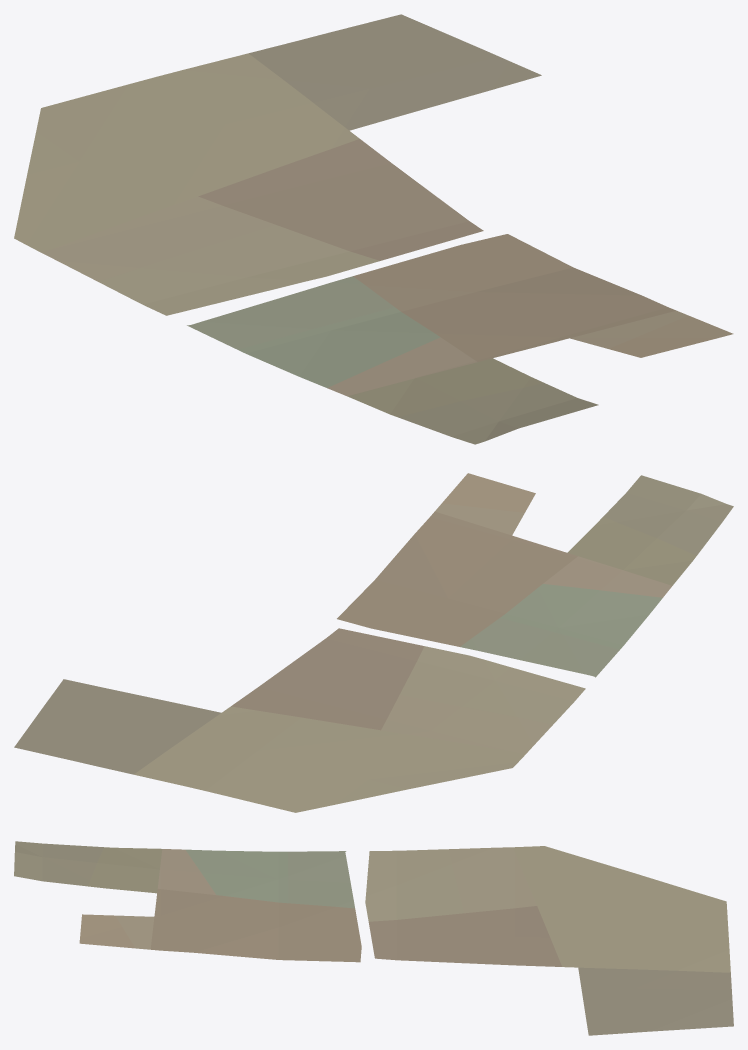
File: farm_4_0_soil.glb
3 renders of one model, top to bottom at view 1: azimuth 30°, elevation 25°; view 2: azimuth 150°, elevation 25°; view 3: azimuth 270°, elevation 25°, orthographic. The views are drawn at different scales.
Parts seen in each view (by area): view 1: geometry_0; view 2: geometry_0; view 3: geometry_0.
Boxes of the visible parts, x1=… form: geometry_0: x1=14, y1=14, x2=733, y2=444; geometry_0: x1=14, y1=473, x2=733, y2=812; geometry_0: x1=14, y1=841, x2=733, y2=1035.
Bounding box in the file's own units: 308 × 32.18 × 488.
